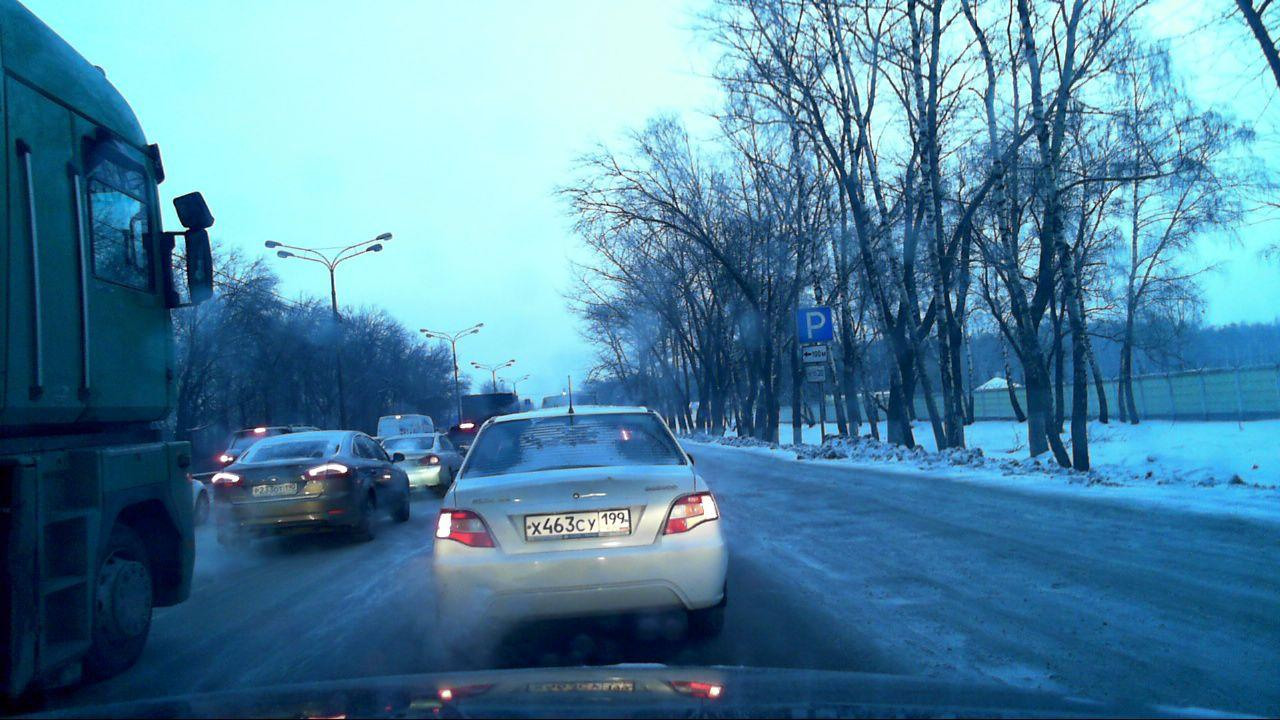6_4: (796, 306, 833, 342)
8_1_4: (803, 345, 829, 361)
8_8: (804, 366, 827, 382)
